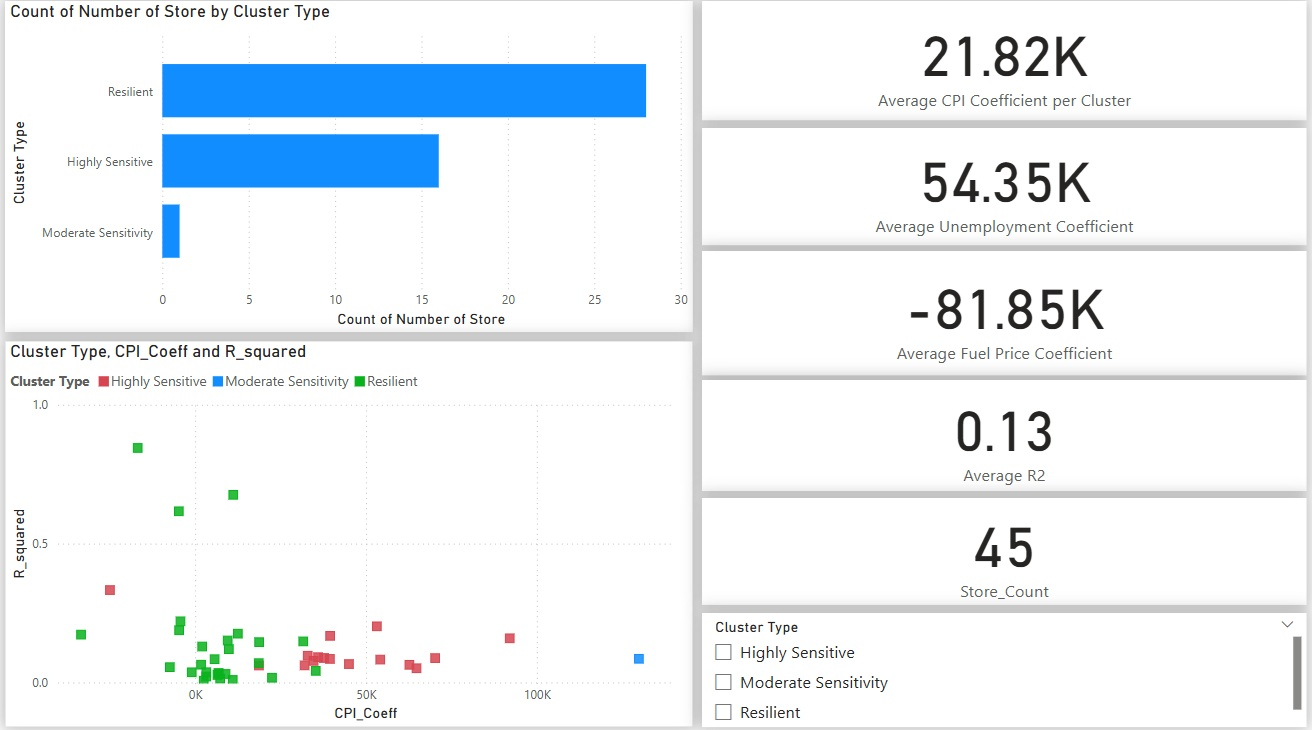

The dashboard page shown, as its layout file describes it:
{"tool":"powerbi","page":{"name":"Which Stores Bend to the Economy – And Which Don’t?","canvas":[1280,720],"ordinal":0},"visuals":[{"type":"clusteredBarChart","fields":{"Category":["Sheet1.Cluster_Label"],"Y":["CountNonNull(Sheet1.Store_Number)"]},"box":[4.9,4.9,669.2,321.9],"z":0},{"type":"scatterChart","fields":{"X":["Sheet1.CPI_Coeff"],"Y":["Sheet1.R_squared"],"Series":["Sheet1.Cluster Type"]},"box":[4.9,335.6,669.2,375.4],"z":1},{"type":"card","fields":{"Values":["Sheet1.Avg_CPI"]},"box":[682.8,4.9,588.4,115.7],"z":2},{"type":"card","fields":{"Values":["Sheet1.Average Unemployment"]},"box":[682.8,128.4,588.4,113.8],"z":3},{"type":"card","fields":{"Values":["Sheet1.Average Fuel Price"]},"box":[682.8,248,588.4,120.6],"z":4},{"type":"card","fields":{"Values":["Sheet1.Average R2"]},"box":[682.8,373.5,588.4,108],"z":5},{"type":"card","fields":{"Values":["Sheet1.Store_Count"]},"box":[682.8,488.3,588.4,104.1],"z":6},{"type":"slicer","fields":{"Values":["Sheet1.Cluster Type"]},"box":[682.8,600.1,588.4,110.9],"z":7}]}

Visuals, with their boxes in screenshot pixels (x1, y1, x2, y2), scaled from the page's 1280x720 canvas onto the 1312x730 screenshot:
clusteredBarChart - Sheet1.Cluster_Label x CountNonNull(Sheet1.Store_Number): l=5, t=5, r=691, b=331
scatterChart - Sheet1.CPI_Coeff x Sheet1.R_squared: l=5, t=340, r=691, b=721
card - Sheet1.Avg_CPI: l=700, t=5, r=1303, b=122
card - Sheet1.Average Unemployment: l=700, t=130, r=1303, b=246
card - Sheet1.Average Fuel Price: l=700, t=251, r=1303, b=374
card - Sheet1.Average R2: l=700, t=379, r=1303, b=488
card - Sheet1.Store_Count: l=700, t=495, r=1303, b=601
slicer - Sheet1.Cluster Type: l=700, t=608, r=1303, b=721
